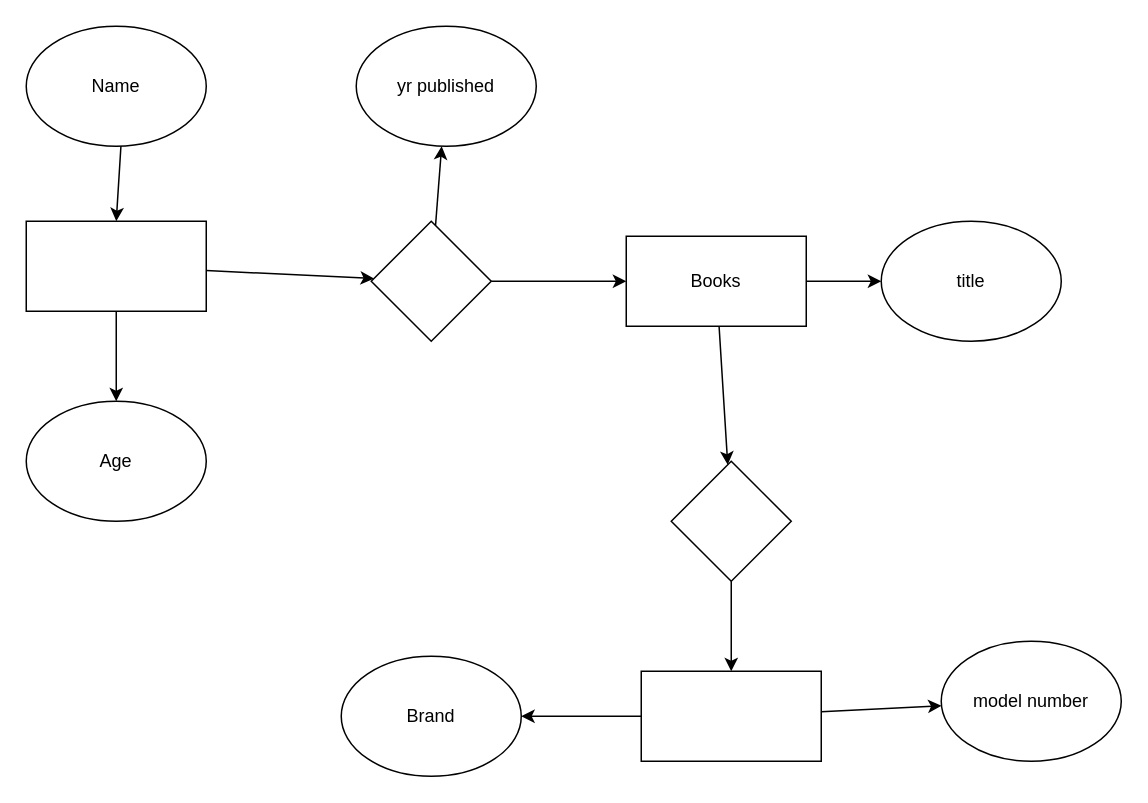
This 1148x803 diagram has some shape labels left out. Here are the shapes that lost their labels. From the top down, the centre of each, then its label:
At (115,265): "Author".
At (430,280): "Writes".
At (730,520): "Printed byb".
At (730,715): "Printer".
